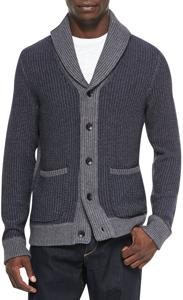C_cardigan sweater: (4, 20, 183, 265)
